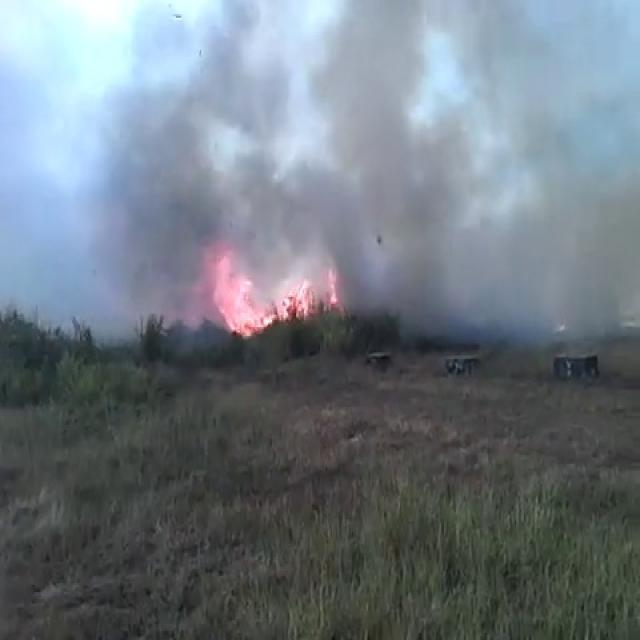Fire: (201, 250, 340, 344)
Smoke: (77, 0, 639, 341)
